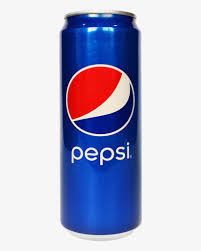pepsi: (61, 12, 144, 237)
